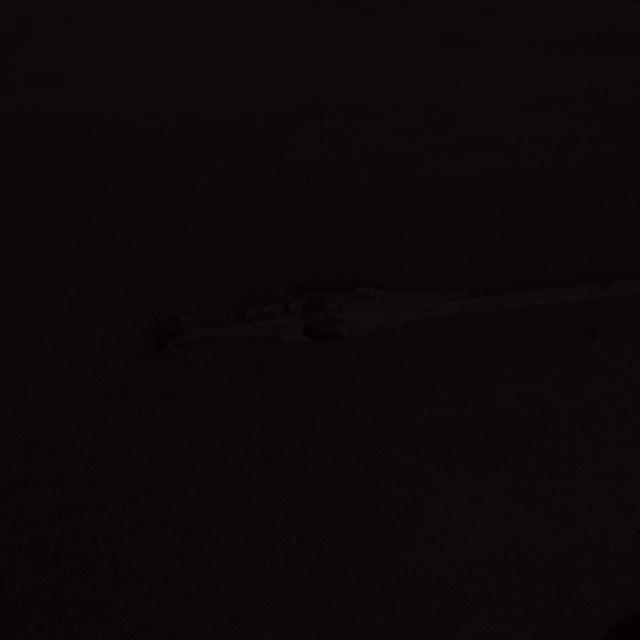Pothole: (146, 272, 476, 364)
